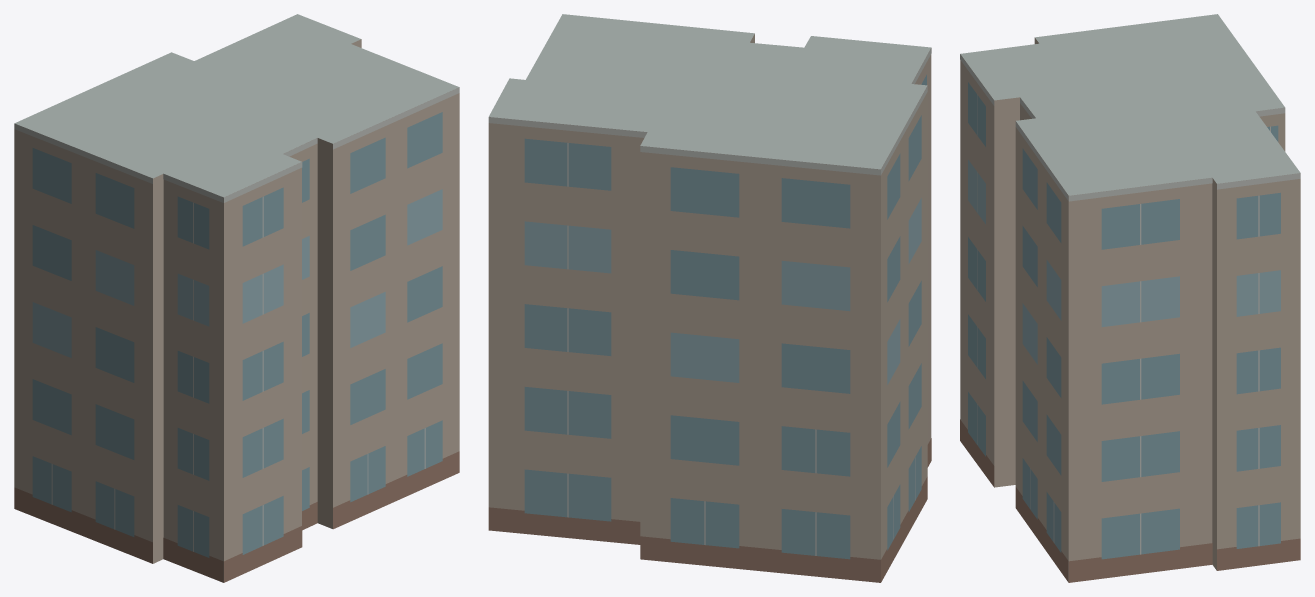
The model's file is survey-upis-32718161.glb.
3 views of the same model, side by side, from view 1: azimuth 30°, elevation 25°; view 2: azimuth 150°, elevation 25°; view 3: azimuth 270°, elevation 25° (orthographic). The views are drawn at different scales.
Visible parts, largest first — view 1: survey-upis-32718161.tmp; view 2: survey-upis-32718161.tmp; view 3: survey-upis-32718161.tmp.
Part boxes in pixels (x1,y1,x2,y2): survey-upis-32718161.tmp: (14, 14, 459, 582); survey-upis-32718161.tmp: (488, 14, 931, 582); survey-upis-32718161.tmp: (960, 14, 1300, 582).
Size of the model in its own units: 16.58 by 16.45 by 13.13.
